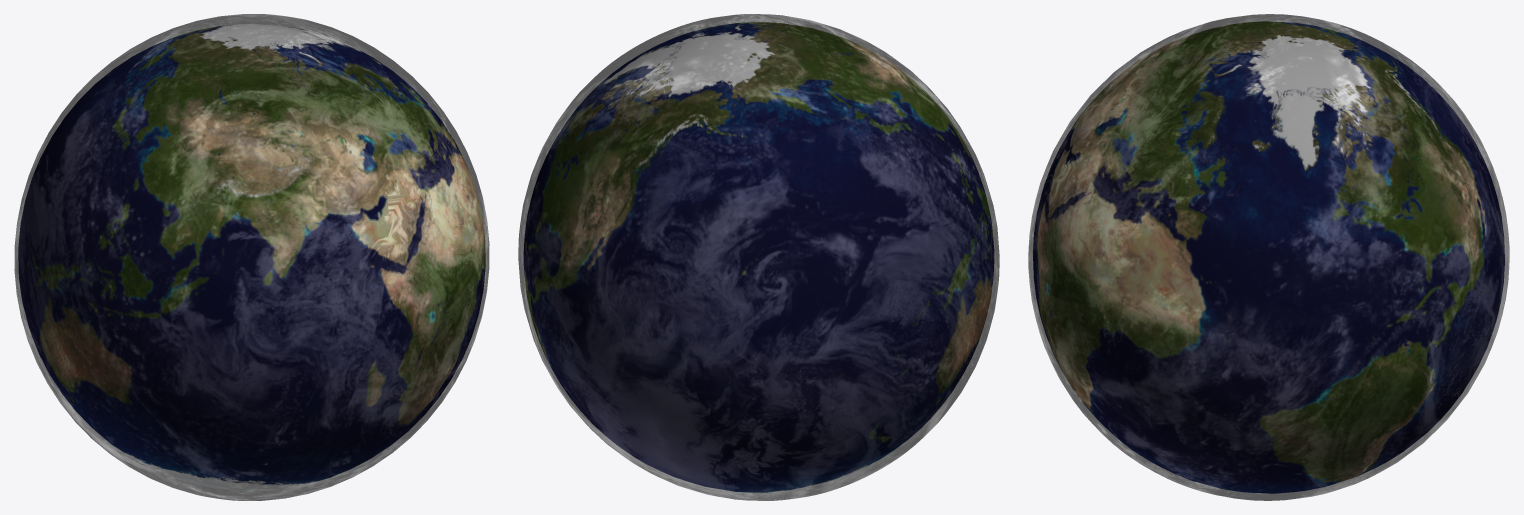
The model's file is earth.glb.
3 renders of one model, left to right at view 1: azimuth 30°, elevation 25°; view 2: azimuth 150°, elevation 25°; view 3: azimuth 270°, elevation 25°, orthographic.
Visible parts, largest first — view 1: Object_3, Object_4; view 2: Object_3, Object_4; view 3: Object_3, Object_4.
Part boxes in pixels (x1=…): Object_3: x1=14, y1=14, x2=489, y2=500; Object_4: x1=18, y1=24, x2=485, y2=490; Object_3: x1=518, y1=14, x2=999, y2=500; Object_4: x1=523, y1=22, x2=994, y2=492; Object_3: x1=1028, y1=14, x2=1509, y2=500; Object_4: x1=1033, y1=21, x2=1504, y2=493.
Bounding box in the file's own units: 3.74 × 3.82 × 3.74.
Materials: 3 (2 with a texture image).
